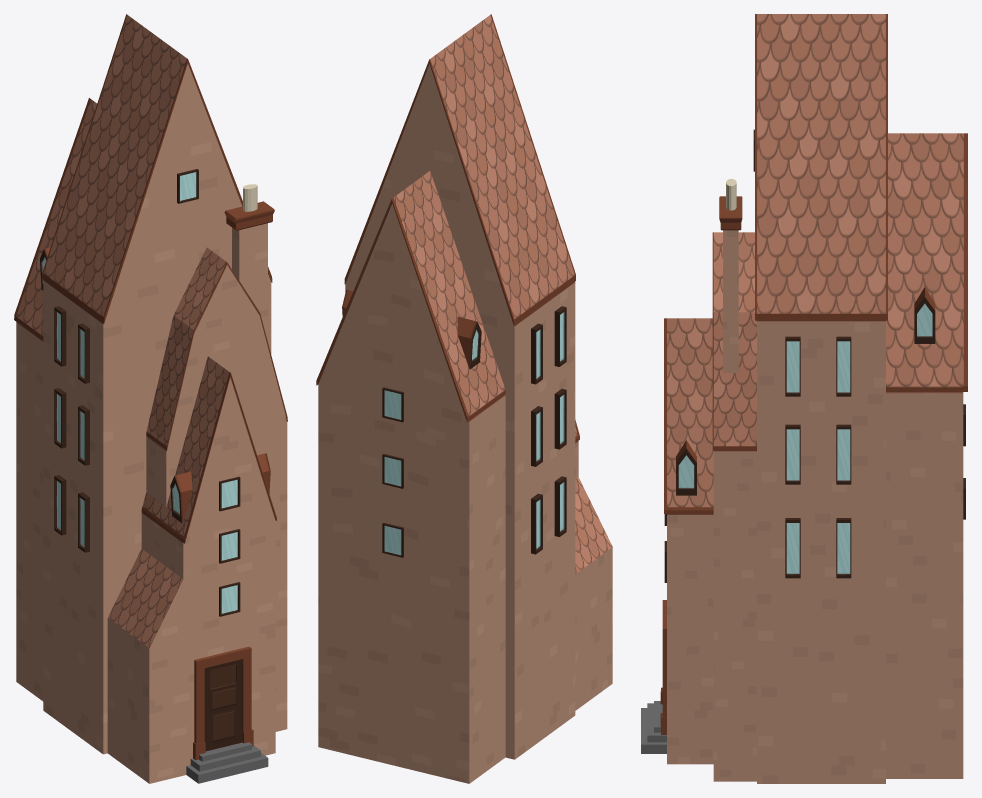
Rendered from french_tallhouse_01.fbx.
3 views of the same model, side by side, from view 1: azimuth 30°, elevation 25°; view 2: azimuth 150°, elevation 25°; view 3: azimuth 270°, elevation 25° (orthographic). The views are drawn at different scales.
Parts seen in each view (by area): view 1: tallhouse; view 2: tallhouse; view 3: tallhouse.
Boxes of the visible parts, x1=… form: tallhouse: x1=14, y1=14, x2=287, y2=783; tallhouse: x1=316, y1=14, x2=612, y2=783; tallhouse: x1=641, y1=14, x2=967, y2=783.
Bounding box in the file's own units: 5 × 18.28 × 7.46.
